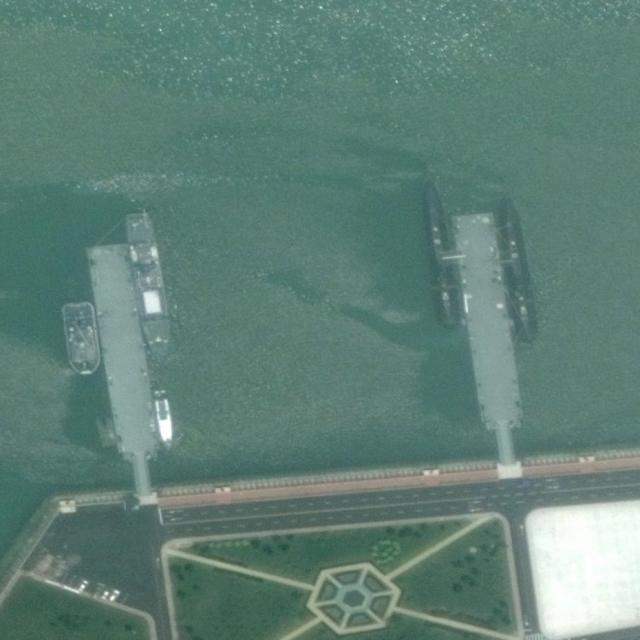Other Warship: (125, 211, 175, 362), (61, 299, 103, 381), (153, 389, 175, 449)
Submarine: (491, 194, 544, 347), (417, 179, 464, 333)
